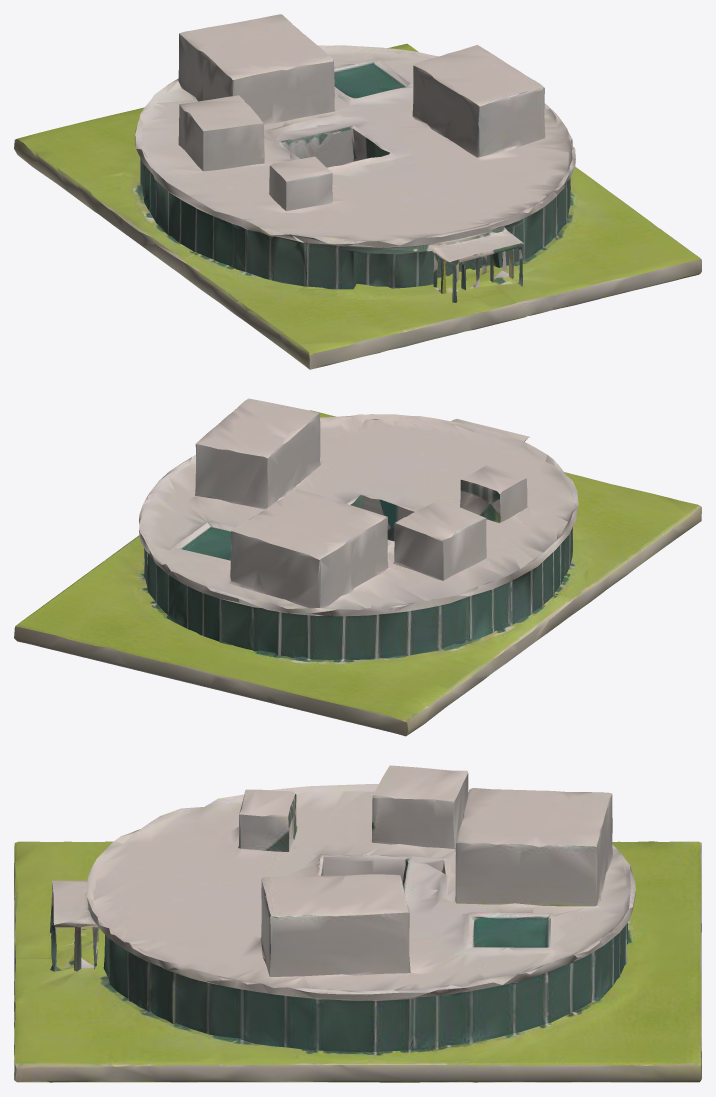
File: kanazawa-21c-museum.glb
3 renders of one model, top to bottom at view 1: azimuth 30°, elevation 25°; view 2: azimuth 150°, elevation 25°; view 3: azimuth 270°, elevation 25°, orthographic. The views are drawn at different scales.
Visible parts, largest first — view 1: logan-textured.obj; view 2: logan-textured.obj; view 3: logan-textured.obj.
Part boxes in pixels (x1=…): logan-textured.obj: x1=14, y1=14, x2=701, y2=369; logan-textured.obj: x1=14, y1=398, x2=701, y2=736; logan-textured.obj: x1=14, y1=765, x2=701, y2=1082.
Bounding box in the file's own units: 0.7711 × 0.2248 × 1.
Materials: 1 (1 with a texture image).
